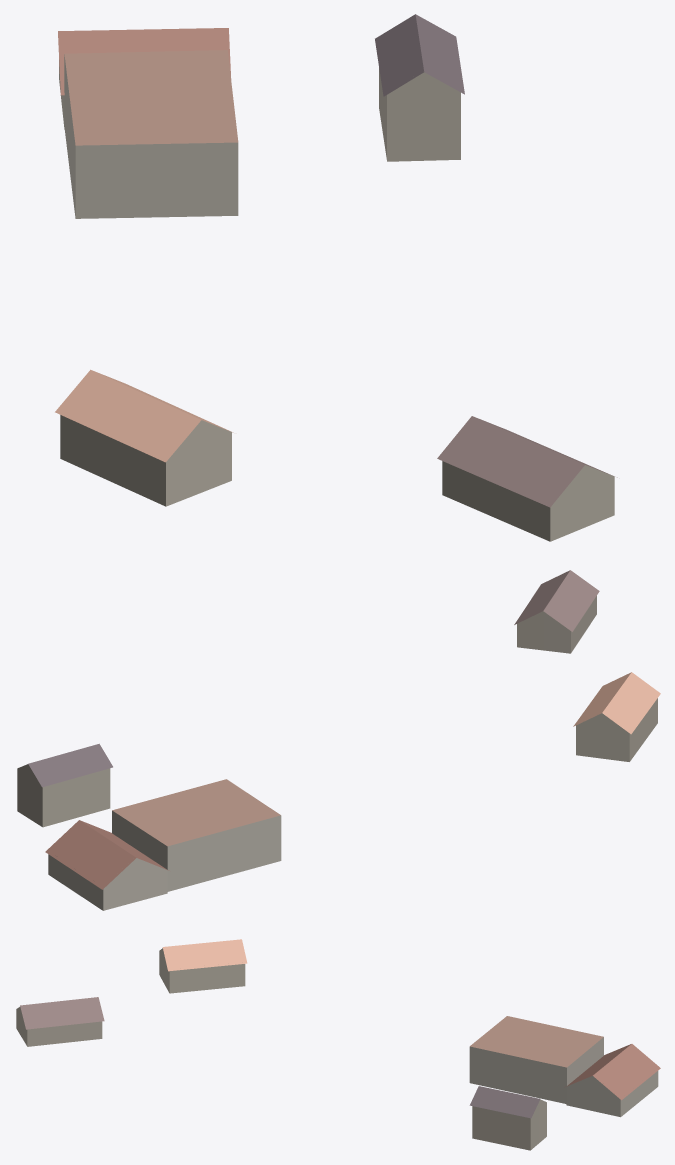
3 views of the same model, one above another, from view 1: azimuth 30°, elevation 25°; view 2: azimuth 150°, elevation 25°; view 3: azimuth 270°, elevation 25° (orthographic). The views are drawn at different scales.
Visible parts, largest first — view 1: tuile; view 2: tuile; view 3: tuile.
Boxes of the visible parts, bbox=[...] form: tuile: bbox=[55, 14, 617, 541]; tuile: bbox=[17, 570, 660, 910]; tuile: bbox=[16, 939, 660, 1150].
Size of the model in its own units: 73.89 by 10.9 by 119.
